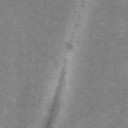finishing roll printing: (44, 58, 68, 128), (66, 43, 73, 50), (74, 23, 82, 29)
